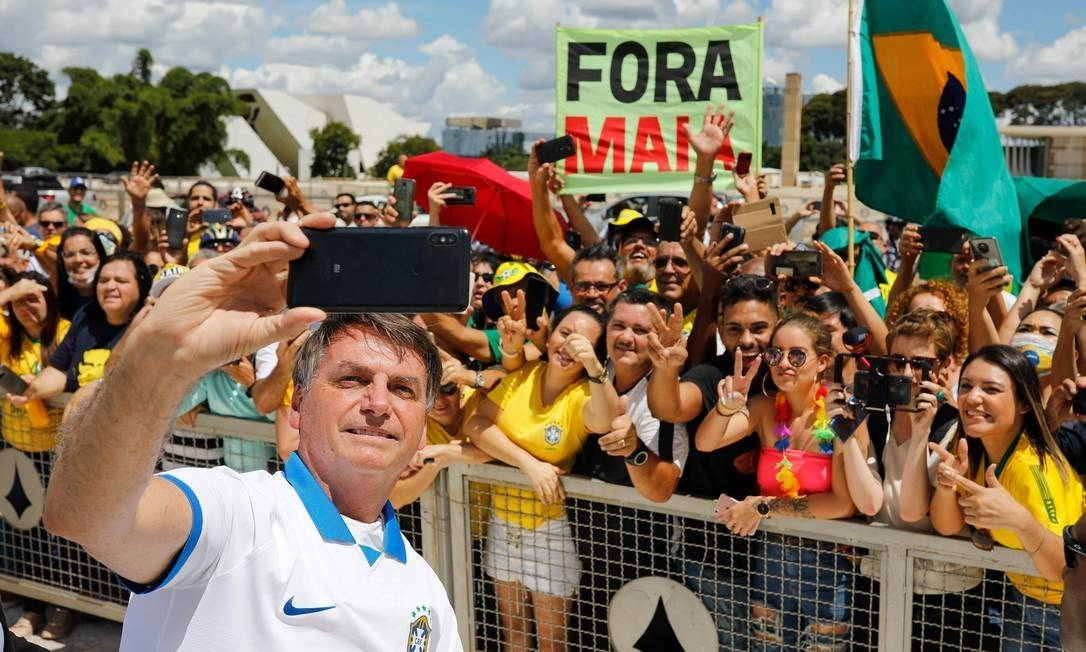mask_weared_incorrect: (59, 230, 101, 287)
without_mask: (299, 337, 438, 475), (714, 288, 777, 364), (957, 367, 1011, 445), (651, 234, 705, 299), (86, 255, 142, 316), (608, 302, 654, 376), (566, 257, 622, 313), (535, 316, 596, 367), (615, 225, 664, 277), (767, 342, 817, 392), (11, 278, 47, 330), (36, 200, 71, 242)
